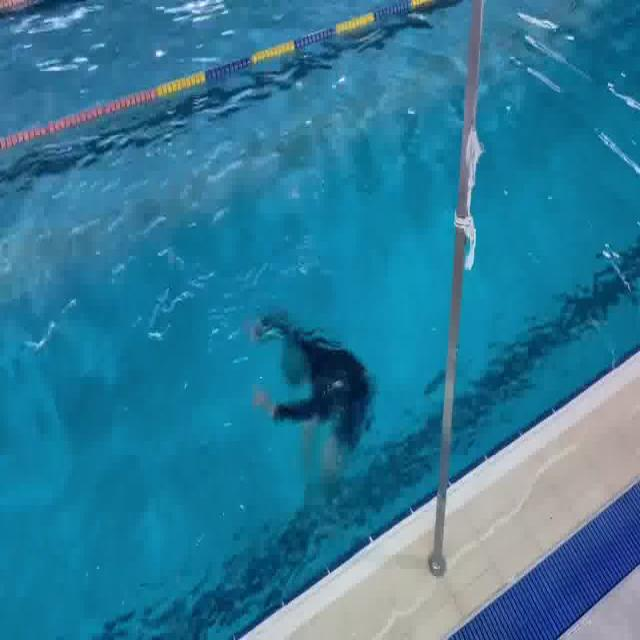Drowning: (241, 306, 379, 473)
